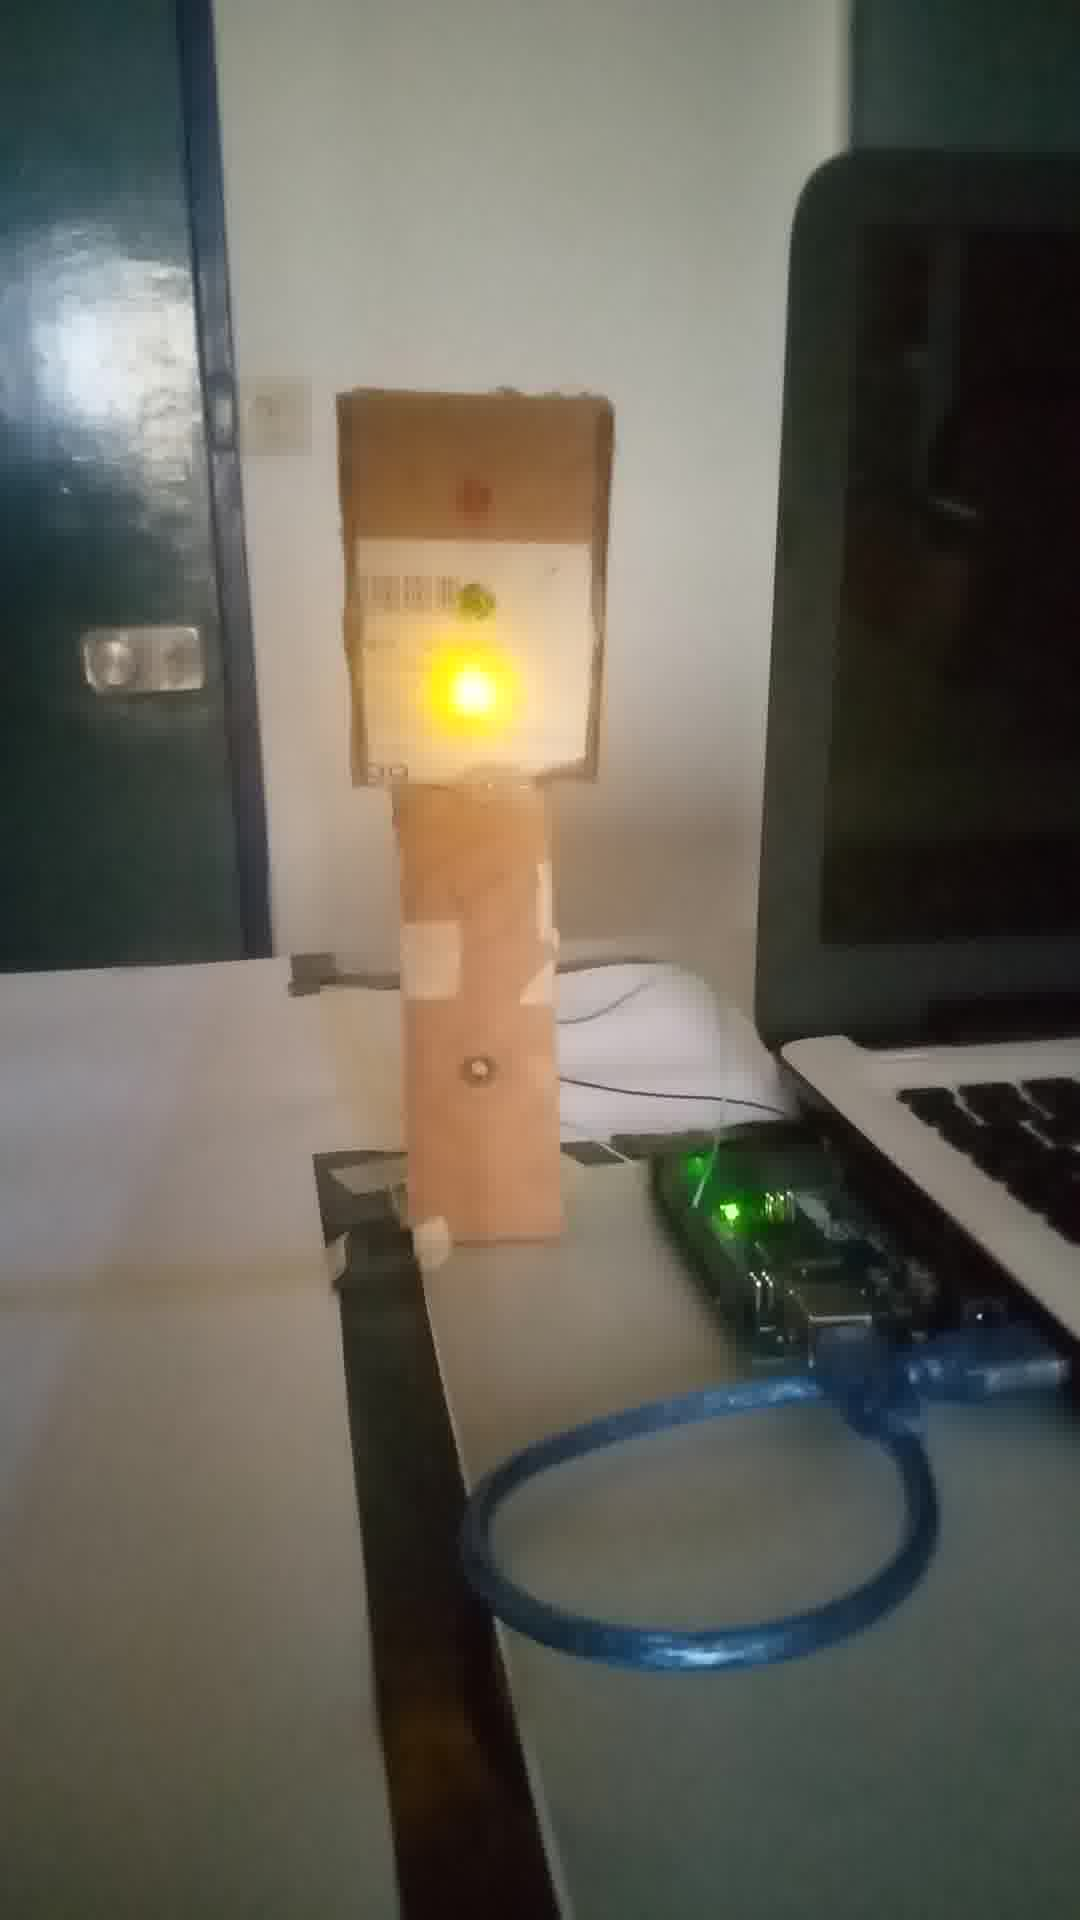green: (344, 392, 597, 789)
